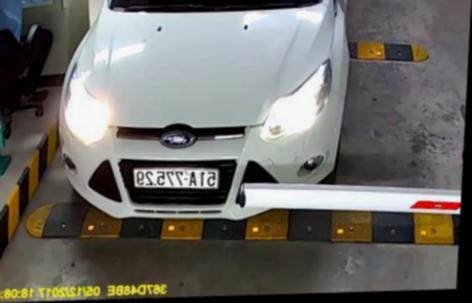License_Plate: (130, 164, 221, 193)
